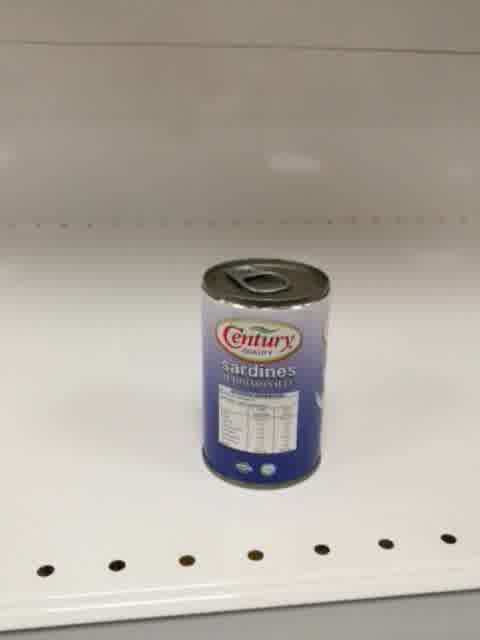sardine: (199, 254, 331, 493)
